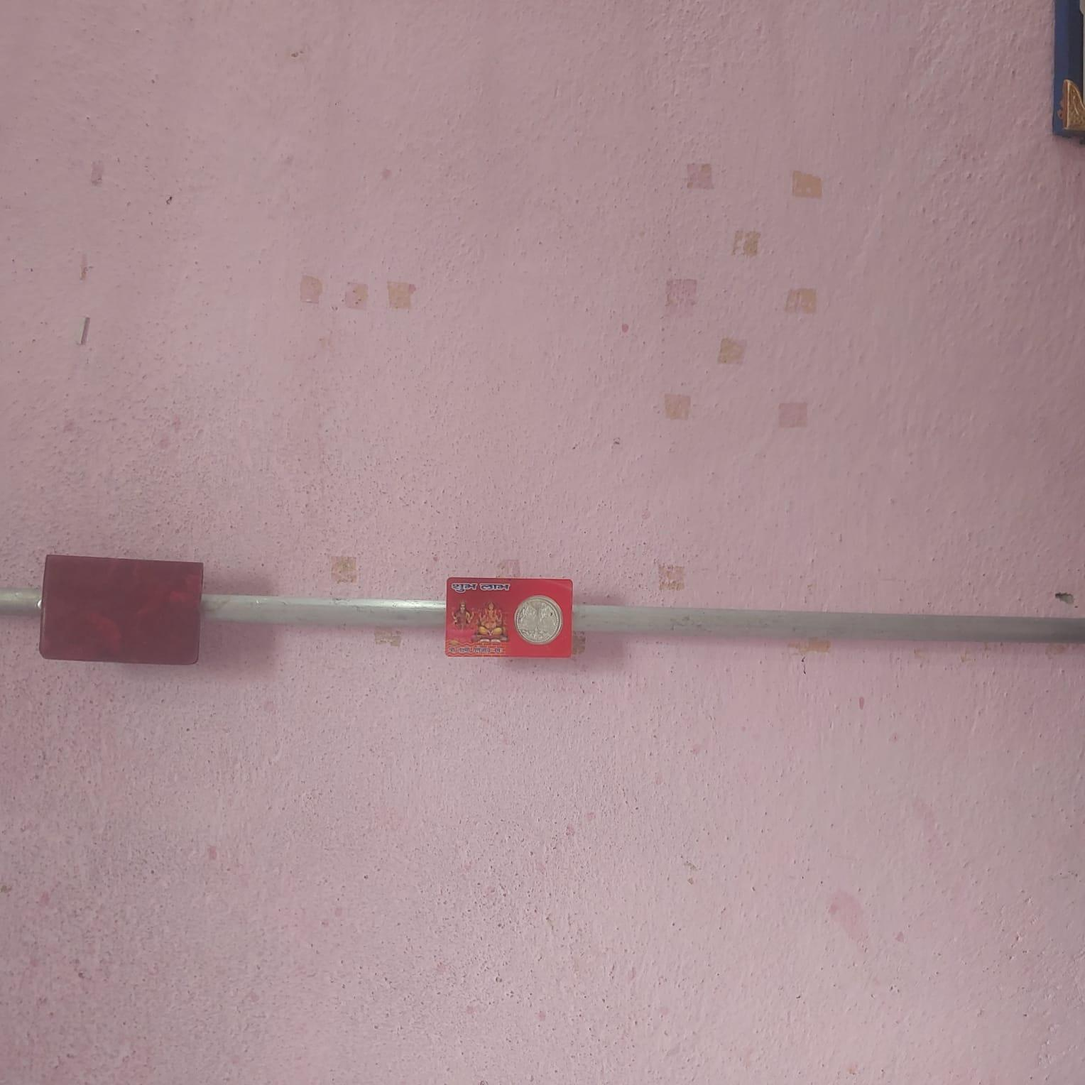blessing_card: (444, 573, 582, 658)
wallet: (36, 550, 208, 668)
